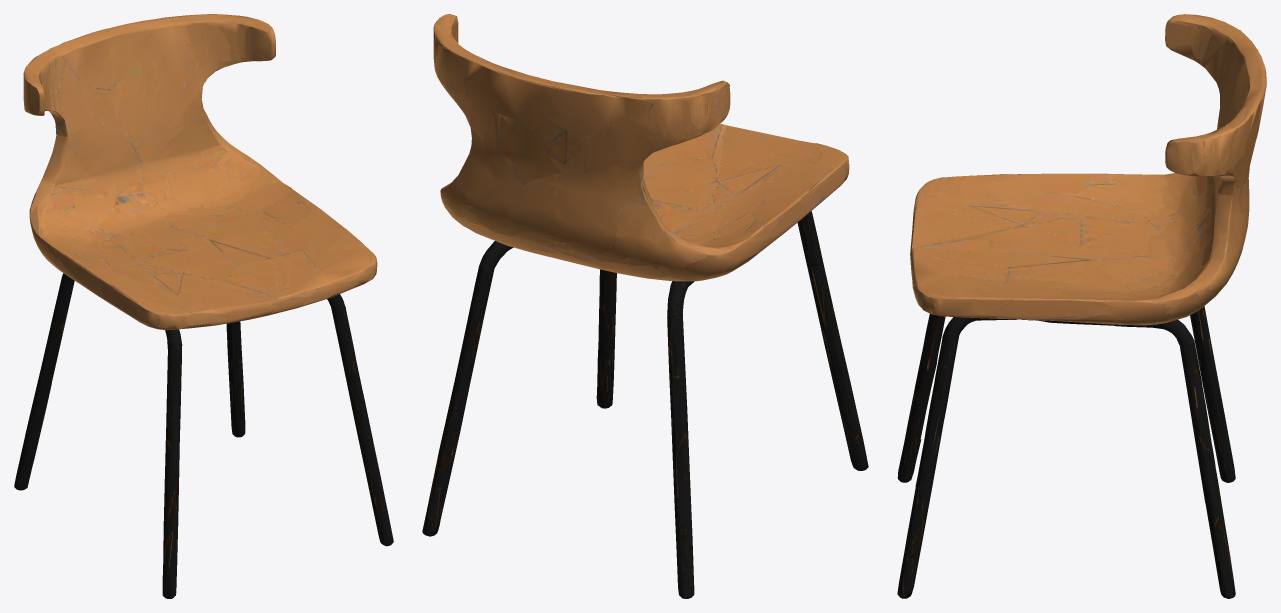
Rendered from dining-chair.glb.
3 renders of one model, left to right at view 1: azimuth 30°, elevation 25°; view 2: azimuth 150°, elevation 25°; view 3: azimuth 270°, elevation 25°, orthographic. The views are drawn at different scales.
Parts seen in each view (by area): view 1: dining-chair; view 2: dining-chair; view 3: dining-chair.
Boxes of the visible parts, x1=… form: dining-chair: x1=14, y1=14, x2=393, y2=598; dining-chair: x1=422, y1=14, x2=868, y2=598; dining-chair: x1=897, y1=14, x2=1266, y2=598.
Bounding box in the file's own units: 0.4908 × 0.8202 × 0.595.
Materials: 1 (1 with a texture image).
